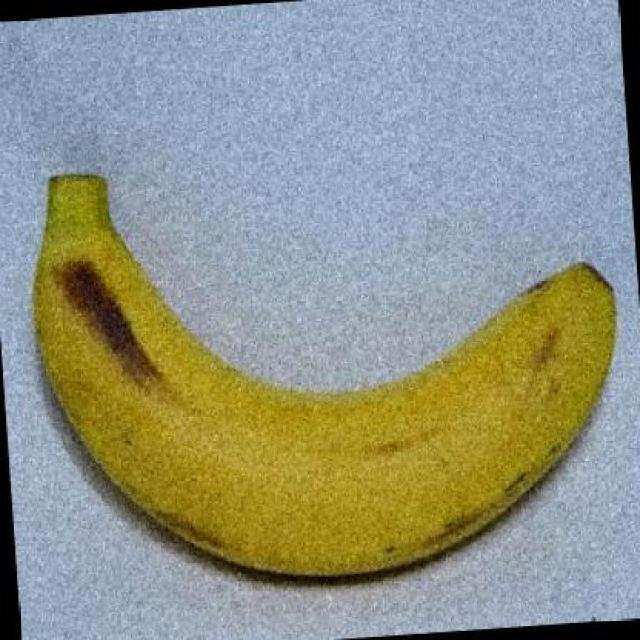ripe: (3, 143, 640, 591)
